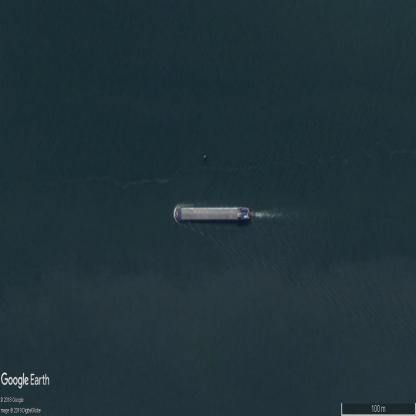ship: (173, 204, 251, 222)
